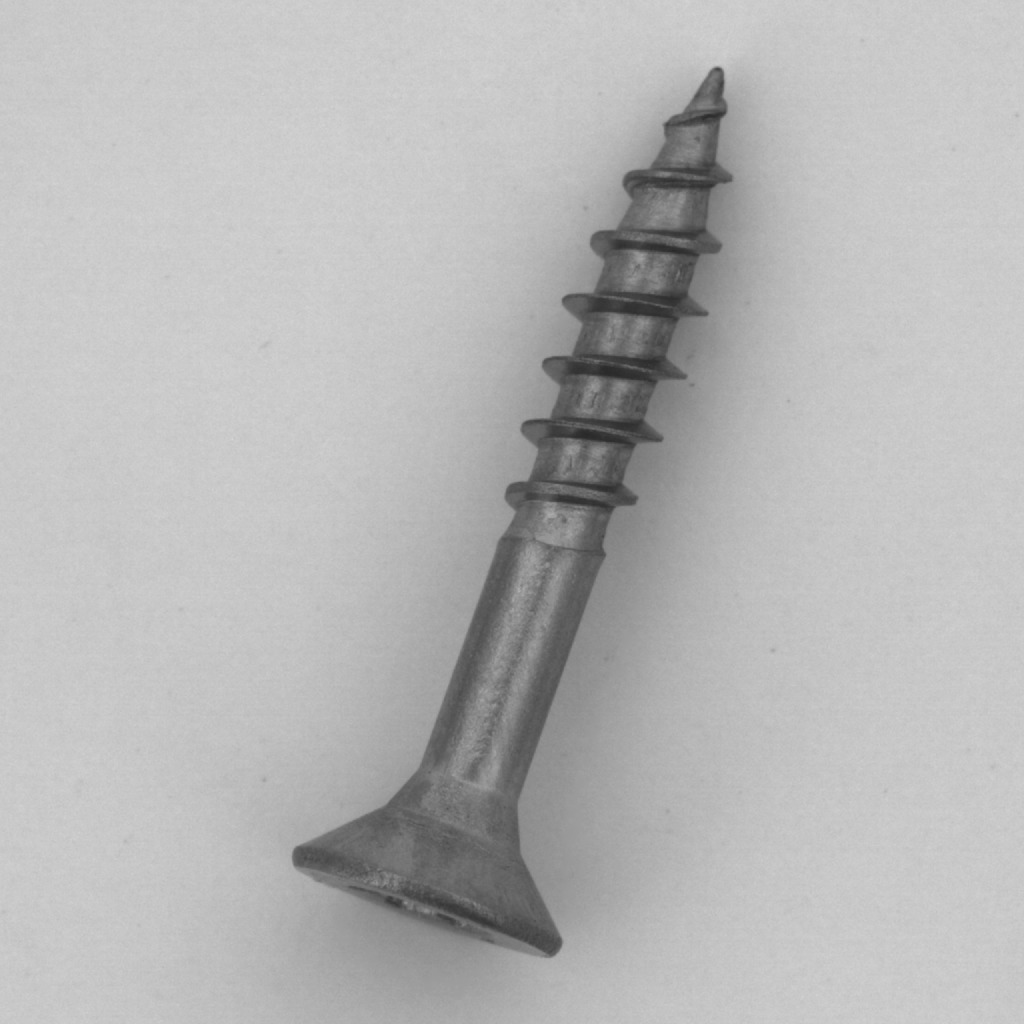good: (273, 47, 756, 977)
